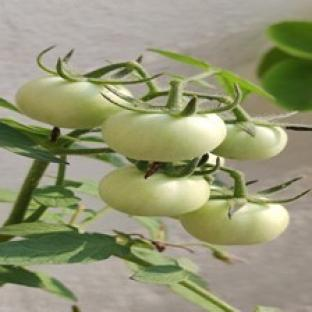Tomato: (102, 111, 225, 161), (99, 166, 210, 217), (16, 76, 121, 129), (180, 200, 289, 245), (214, 123, 286, 160)
